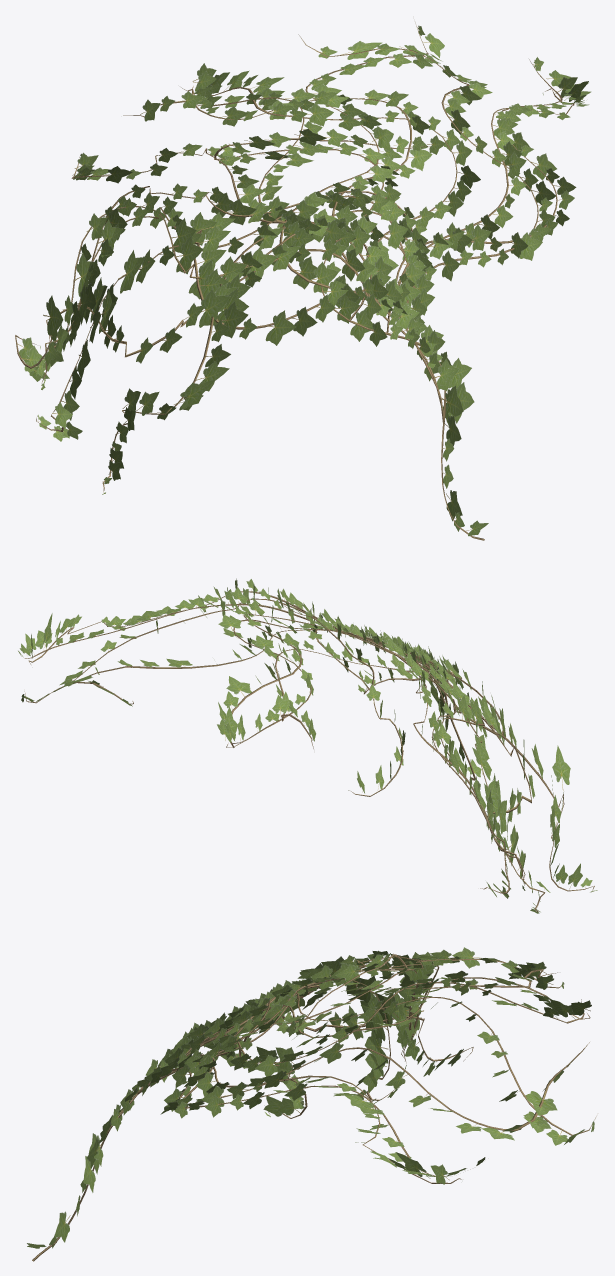
File: ivy_03.fbx
3 renders of one model, top to bottom at view 1: azimuth 30°, elevation 25°; view 2: azimuth 150°, elevation 25°; view 3: azimuth 270°, elevation 25°, orthographic. The views are drawn at different scales.
Visible parts, largest first — view 1: NewIvySnapshot_4.001; view 2: NewIvySnapshot_4.001; view 3: NewIvySnapshot_4.001.
Part boxes in pixels (x1,y1,x2,y2): NewIvySnapshot_4.001: (15,22,591,540); NewIvySnapshot_4.001: (18,578,597,913); NewIvySnapshot_4.001: (27,947,596,1261).
Size of the model in its own units: 143 by 72.42 by 129.
